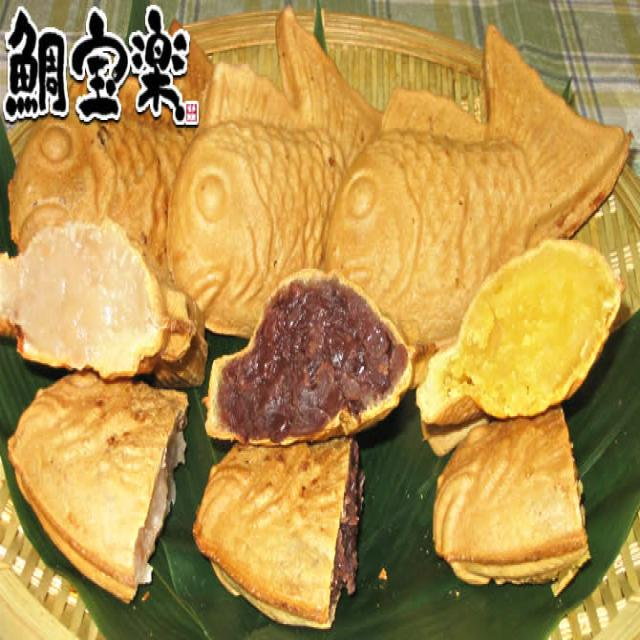熟制海鲜: (0, 0, 630, 621)
